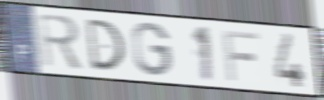1: (190, 24, 217, 84)
4: (273, 31, 307, 90)
D: (84, 17, 127, 72)
F: (221, 28, 262, 84)
G: (130, 21, 173, 78)
R: (36, 11, 85, 71)
